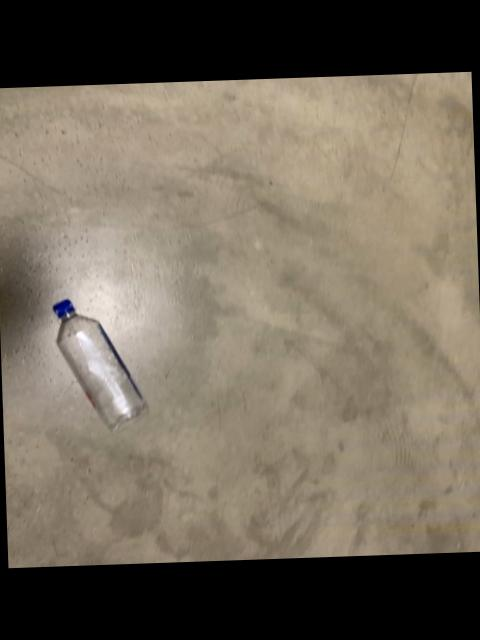plastic: (51, 302, 144, 432)
